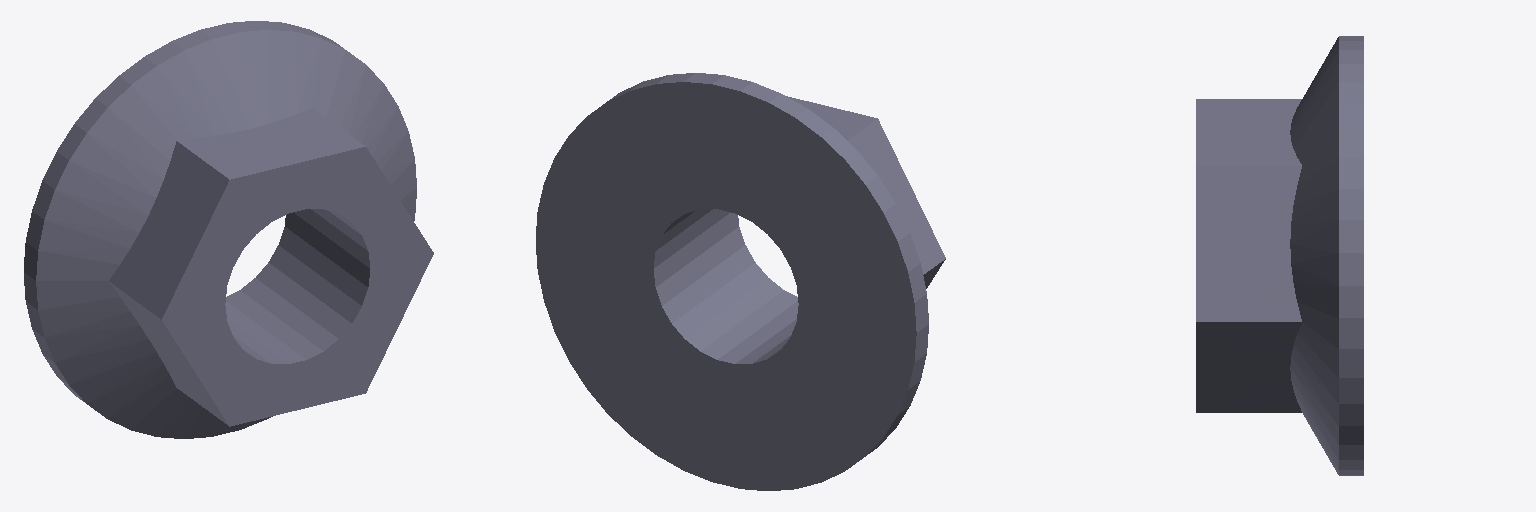
File: T-NUT-M8.obj
3 views of the same model, side by side, from view 1: azimuth 30°, elevation 25°; view 2: azimuth 150°, elevation 25°; view 3: azimuth 270°, elevation 25° (orthographic).
Parts seen in each view (by area): view 1: bosch_[number redacted]_9cc1lwl8dpcdfqyc3wh3uey9q_1; view 2: bosch_[number redacted]_9cc1lwl8dpcdfqyc3wh3uey9q_1; view 3: bosch_[number redacted]_9cc1lwl8dpcdfqyc3wh3uey9q_1.
Part boxes in pixels (x1,y1,x2,y2): bosch_[number redacted]_9cc1lwl8dpcdfqyc3wh3uey9q_1: (24,21,433,438); bosch_[number redacted]_9cc1lwl8dpcdfqyc3wh3uey9q_1: (536,73,945,490); bosch_[number redacted]_9cc1lwl8dpcdfqyc3wh3uey9q_1: (1196,36,1363,475).
Size of the model in its own units: 21 by 20.94 by 8.